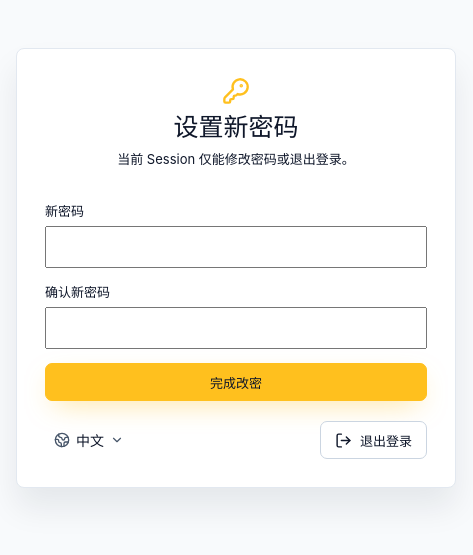
Test: PasswordChangeRequiredPage › validates matching strong passwords before submitting
The width and height of the screenshot is (473, 555).
In the password field labelled "新密码": coordinates (236, 247) [45, 226, 427, 268], type "new-password"
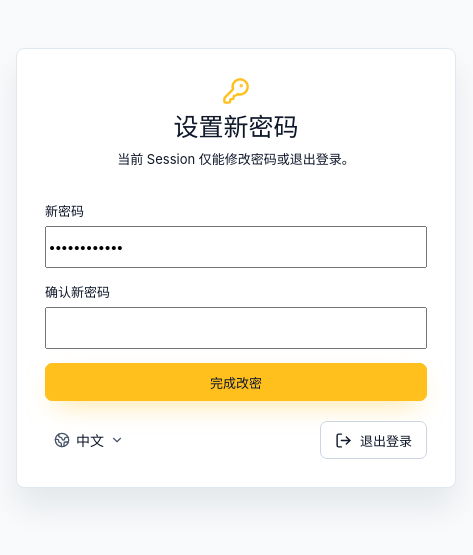
In the password field labelled "确认新密码": coordinates (236, 328) [45, 307, 427, 349], type "different-password"
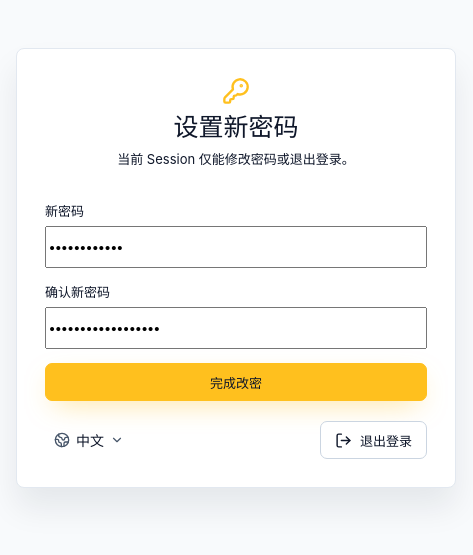
Click the button "完成改密": coordinates (236, 382) [45, 363, 427, 401]
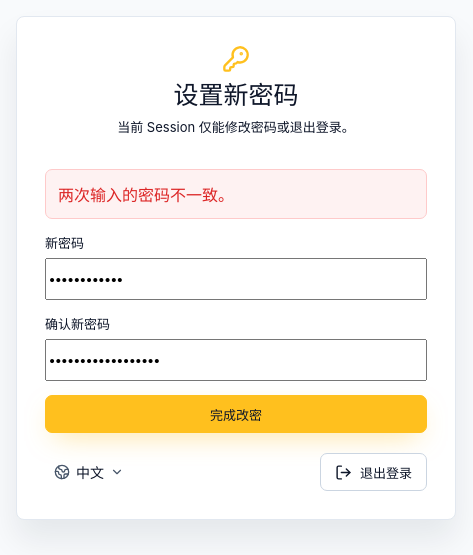
Result: the message shows "两次输入的密码不一致" at [58, 185, 234, 205]
